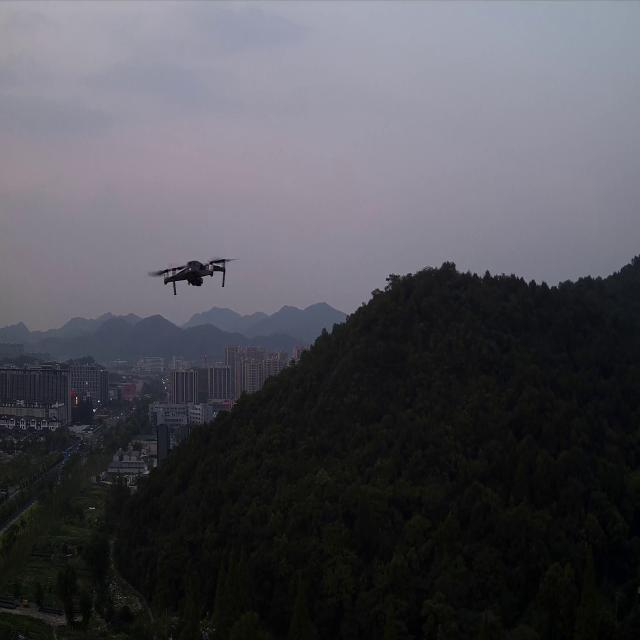UAV: (146, 255, 241, 298)
